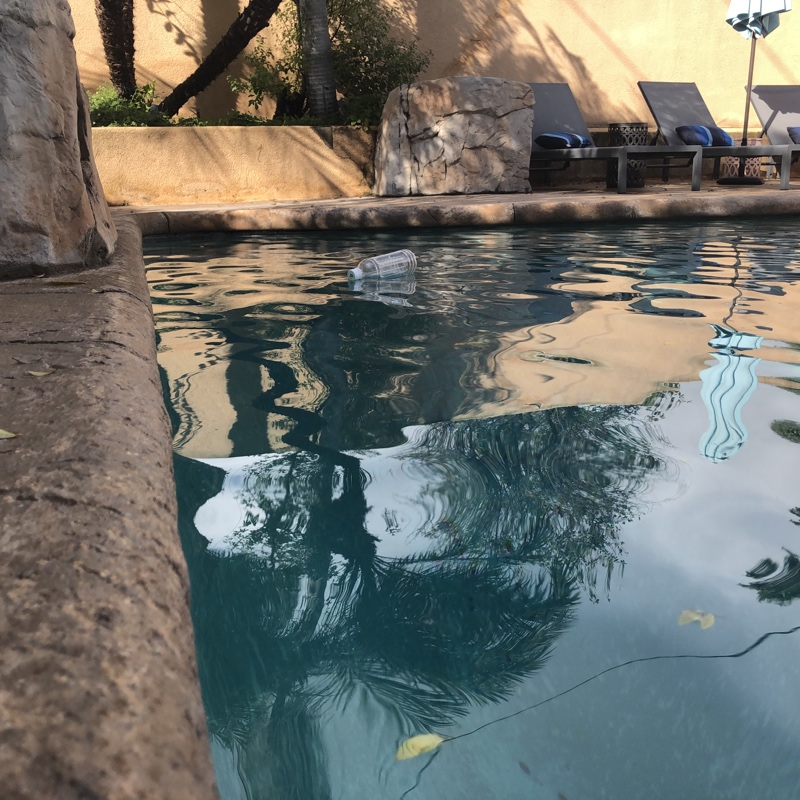Plastic Bottle: (344, 250, 423, 284)
